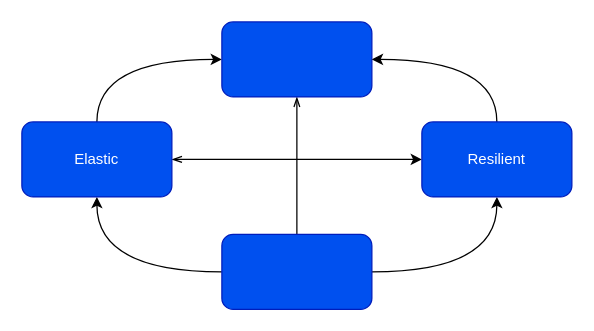
Image size: 594x331. Some labels were removed from this diagram. Here are the shapes that lost their labels. From the top down, the box of each, then its label:
(221, 21, 372, 97): Responsive
(221, 233, 372, 309): Message Driven
